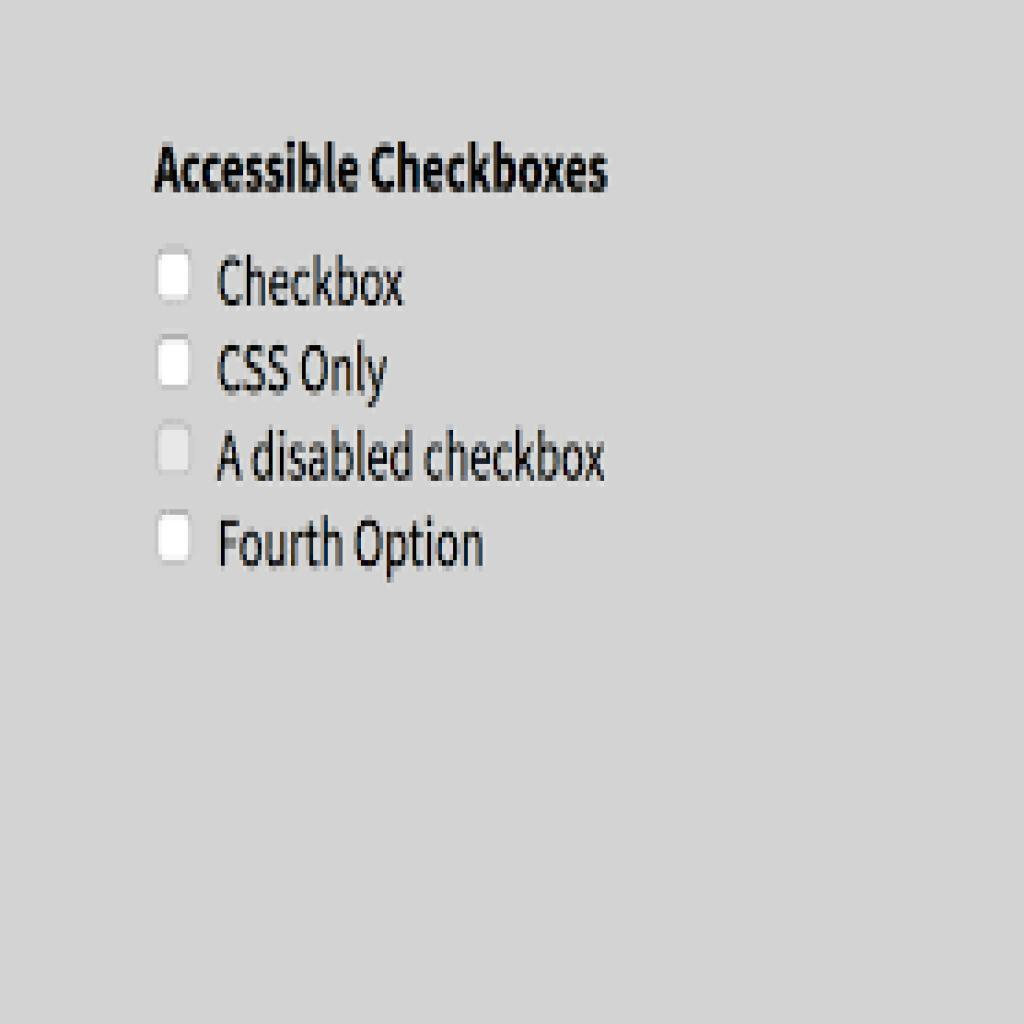checkbox: (156, 421, 195, 479), (157, 250, 194, 307), (157, 336, 190, 390), (159, 512, 193, 564)
